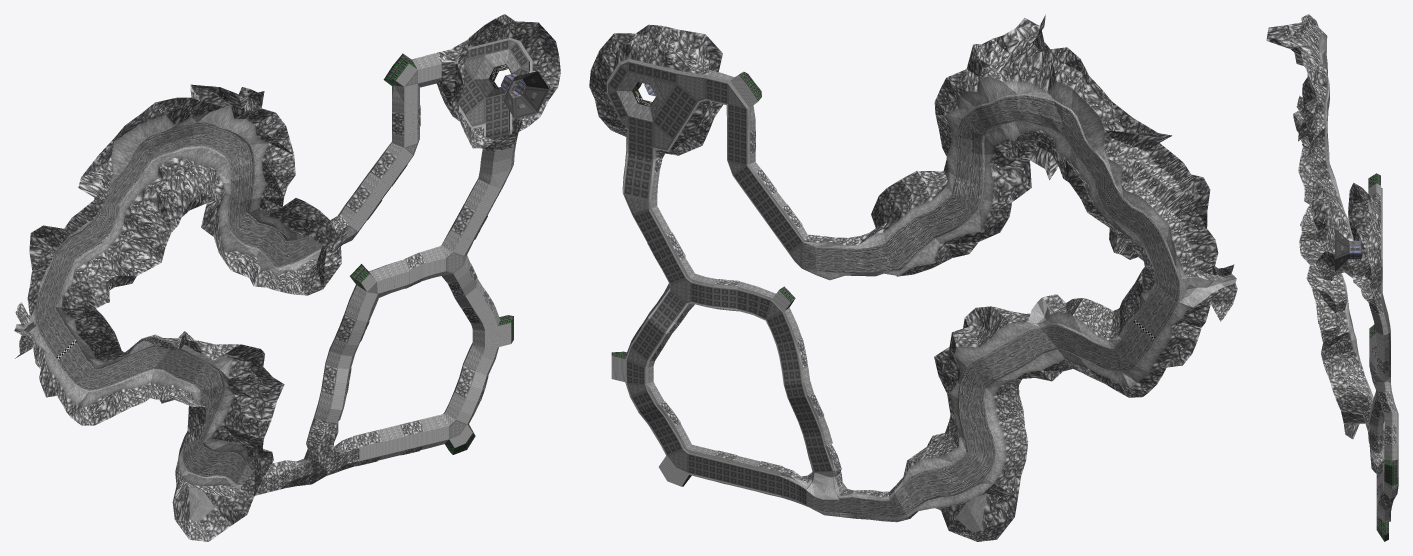
Rendered from ARATRACK.GDB.obj.
3 renders of one model, left to right at view 1: azimuth 30°, elevation 25°; view 2: azimuth 150°, elevation 25°; view 3: azimuth 270°, elevation 25°, orthographic. The views are drawn at different scales.
Bounding box in the file's own units: 1593 × 1257 × 376.
15 materials, 14 textured.
